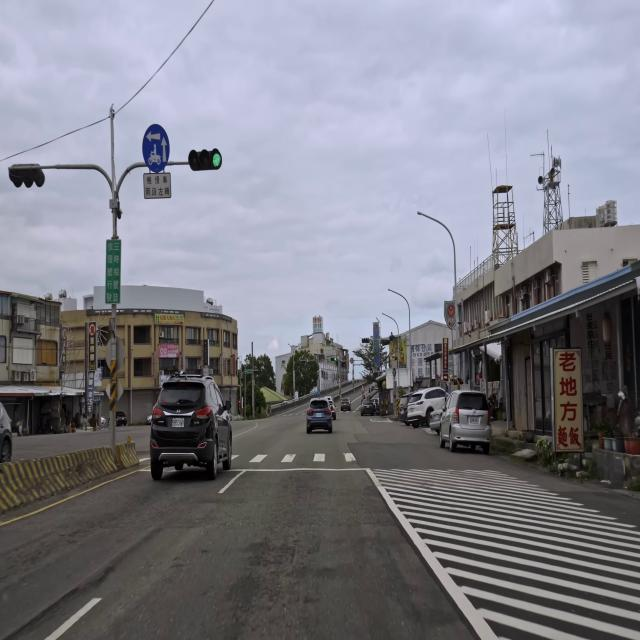green light: (188, 148, 222, 171), (330, 357, 336, 361)
